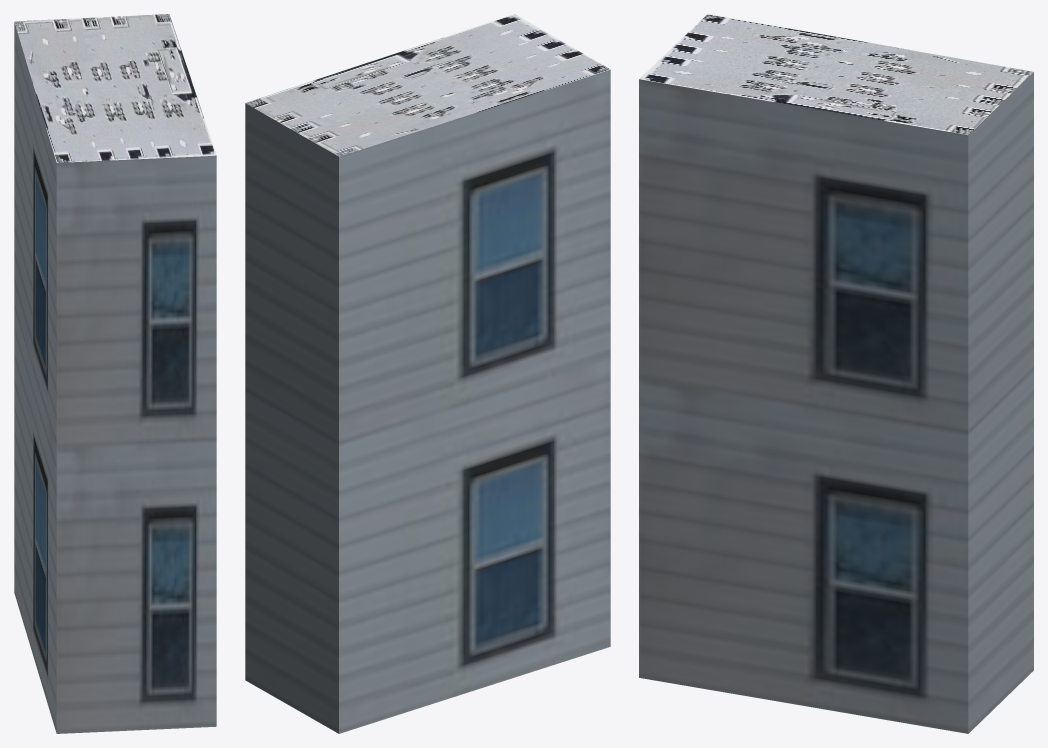
The model's file is ResTex__5015.fbx.
3 renders of one model, left to right at view 1: azimuth 30°, elevation 25°; view 2: azimuth 150°, elevation 25°; view 3: azimuth 270°, elevation 25°, orthographic. The views are drawn at different scales.
Visible parts, largest first — view 1: CityEngineMaterial_18_m, CityEngineMaterial_m; view 2: CityEngineMaterial_18_m, CityEngineMaterial_m; view 3: CityEngineMaterial_18_m, CityEngineMaterial_m.
Part boxes in pixels (<box>): CityEngineMaterial_18_m: <box>14,22,216,733</box>; CityEngineMaterial_m: <box>14,14,216,162</box>; CityEngineMaterial_18_m: <box>245,69,610,733</box>; CityEngineMaterial_m: <box>245,14,610,156</box>; CityEngineMaterial_18_m: <box>639,72,1033,733</box>; CityEngineMaterial_m: <box>639,14,1033,135</box>.
Bounding box in the file's own units: 2.61 × 6 × 3.59.
Materials: 2 (2 with a texture image).
